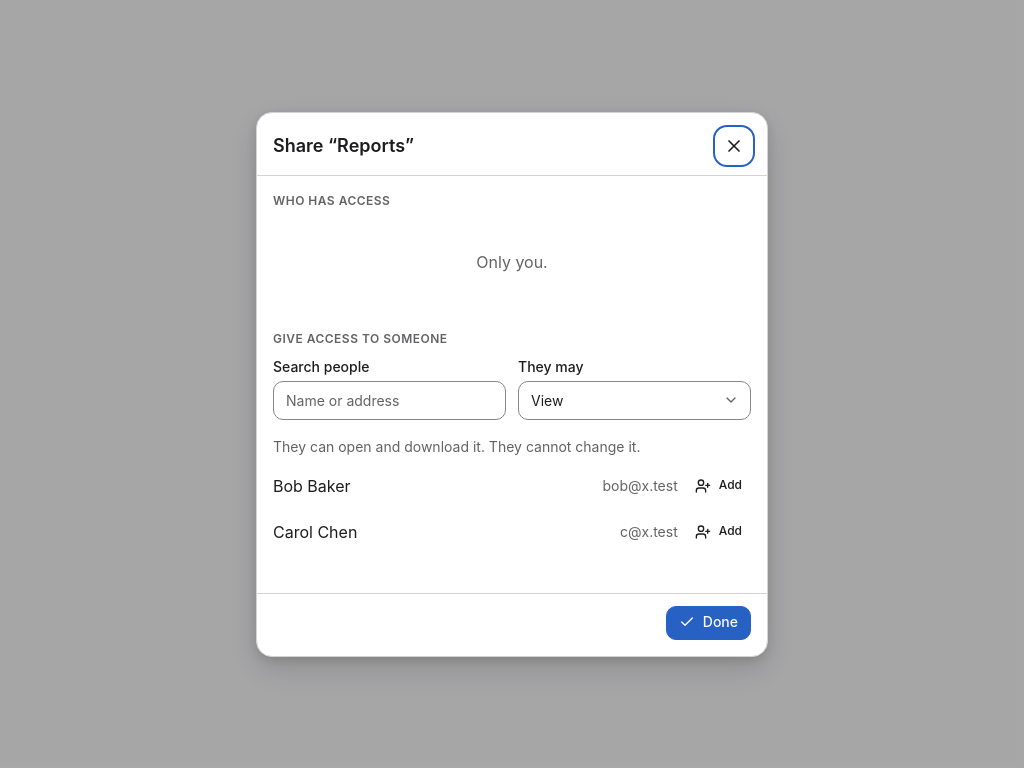
Scenario: granting › spells out what the role means, including that a manager can re-share
The width and height of the screenshot is (1024, 768).
Check: the text "Bob Baker" is shown, box x1=273 y1=476 x2=351 y2=496
Select "Manage" in the dropdown labelled "They may" at (634, 400), box x1=518 y1=380 x2=751 y2=420
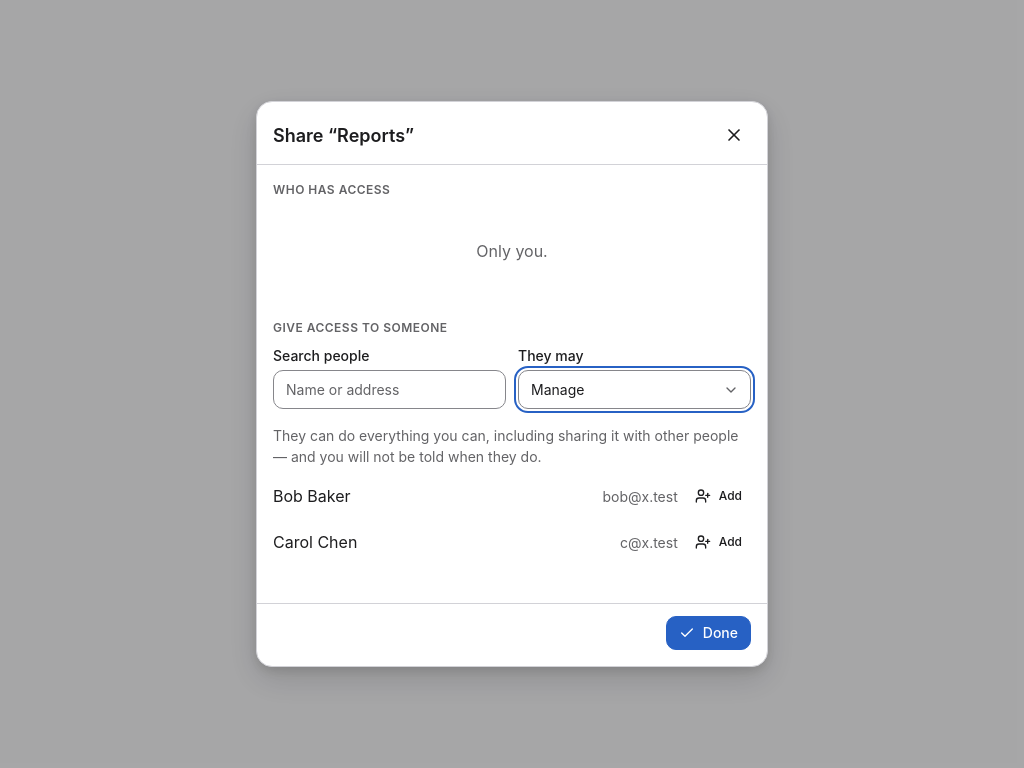
Check: the text "sharing it with other people" is shown, box x1=273 y1=427 x2=738 y2=465
